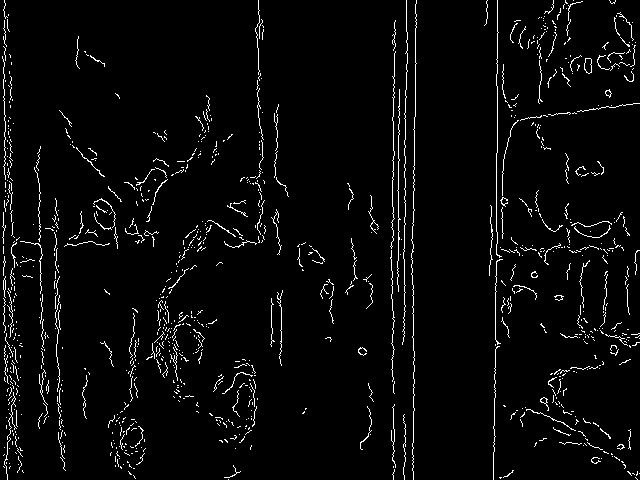red_onion: (30, 6, 222, 230), (136, 175, 256, 471)
